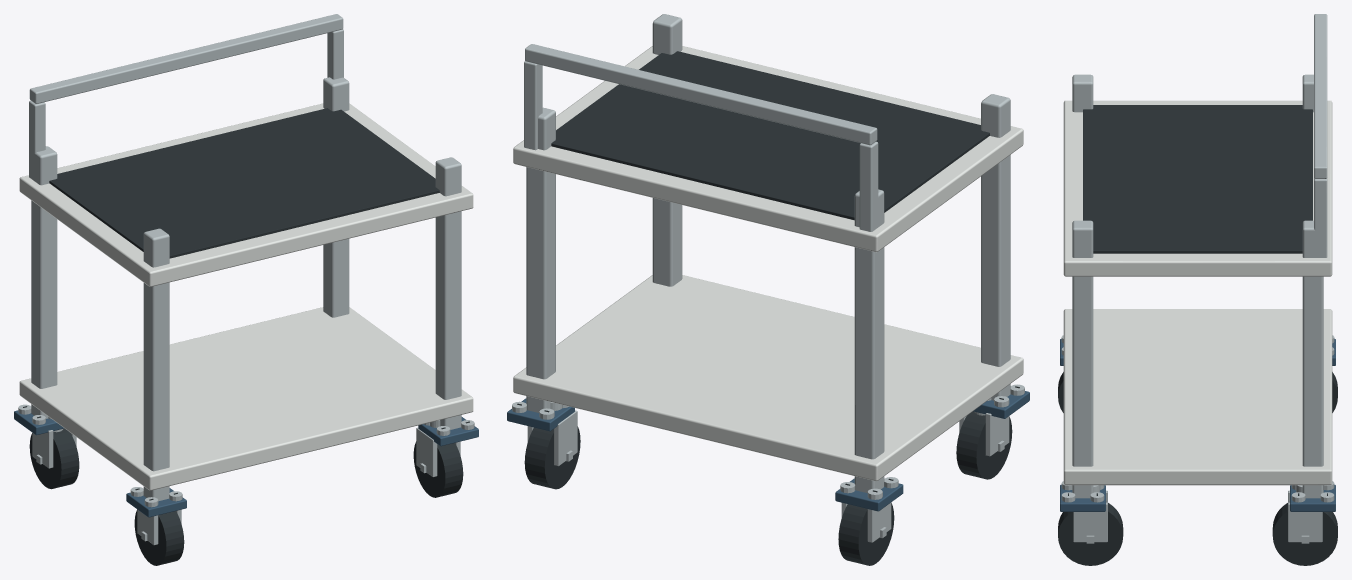
File: container-inspection-and-customs-yard-container-inspec-af3544f7__29313.glb
3 views of the same model, side by side, from view 1: azimuth 30°, elevation 25°; view 2: azimuth 150°, elevation 25°; view 3: azimuth 270°, elevation 25° (orthographic). The views are drawn at different scales.
Visible parts, largest first — view 1: container-inspection-and-customs-yard-goods-trolley; view 2: container-inspection-and-customs-yard-goods-trolley; view 3: container-inspection-and-customs-yard-goods-trolley.
Boxes of the visible parts, x1,y1,x2,y2 form: container-inspection-and-customs-yard-goods-trolley: (14,14,478,565); container-inspection-and-customs-yard-goods-trolley: (507,14,1029,565); container-inspection-and-customs-yard-goods-trolley: (1058,14,1337,565).
Size of the model in its own units: 1.02 by 1.16 by 0.73.
